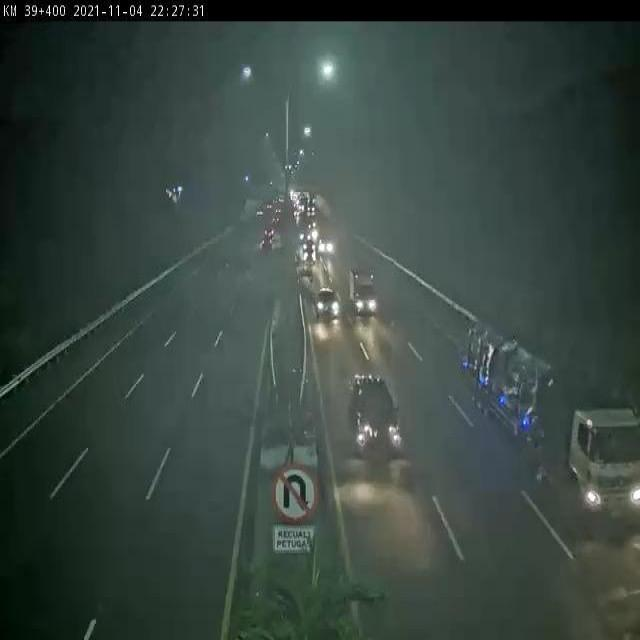car: (345, 371, 404, 457), (316, 284, 339, 320)
truck-s-: (348, 267, 379, 316)
truck-xl-: (468, 324, 639, 523)
